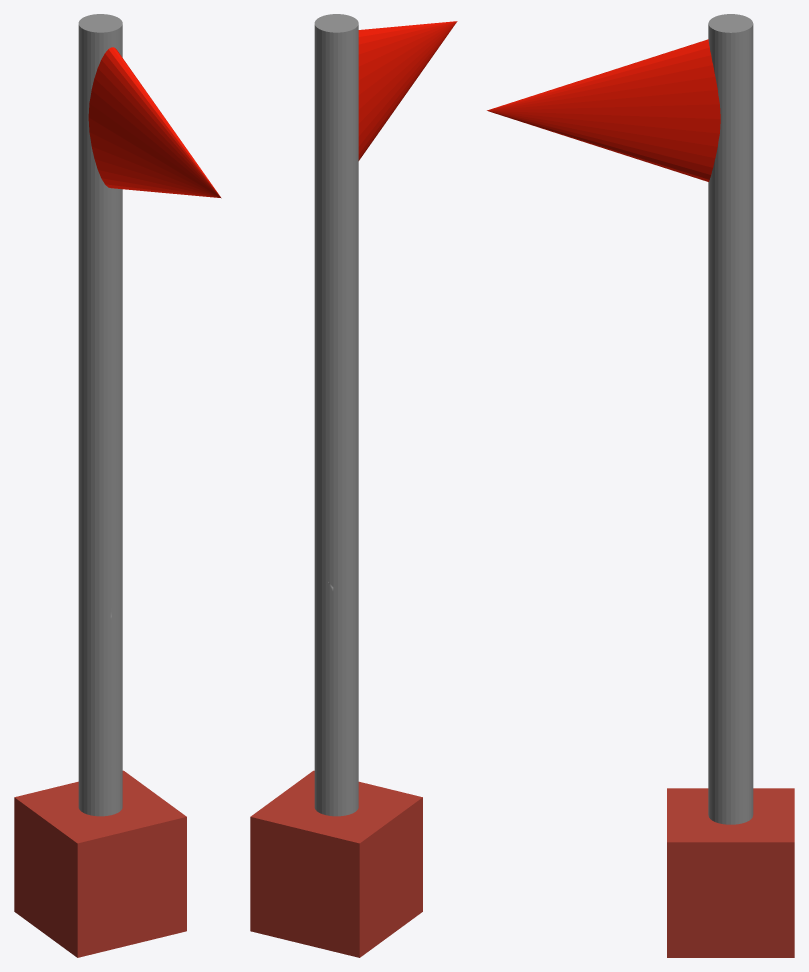
Rendered from Goal.obj.
3 views of the same model, side by side, from view 1: azimuth 30°, elevation 25°; view 2: azimuth 150°, elevation 25°; view 3: azimuth 270°, elevation 25° (orthographic).
Visible parts, largest first — view 1: 円錐; view 2: 円錐; view 3: 円錐.
Part boxes in pixels (<box>): 円錐: <box>14,14,221,957</box>; 円錐: <box>250,14,457,957</box>; 円錐: <box>487,14,794,957</box>.
Bounding box in the file's own units: 2 × 15.69 × 4.83.
1 material, 1 textured.
